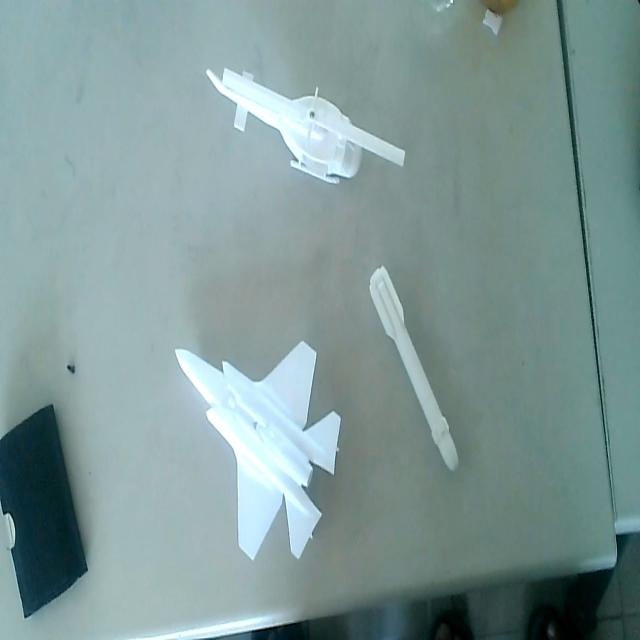Helicopter: (206, 54, 406, 206)
Jet: (172, 328, 342, 572)
Rocket: (366, 256, 459, 474)
